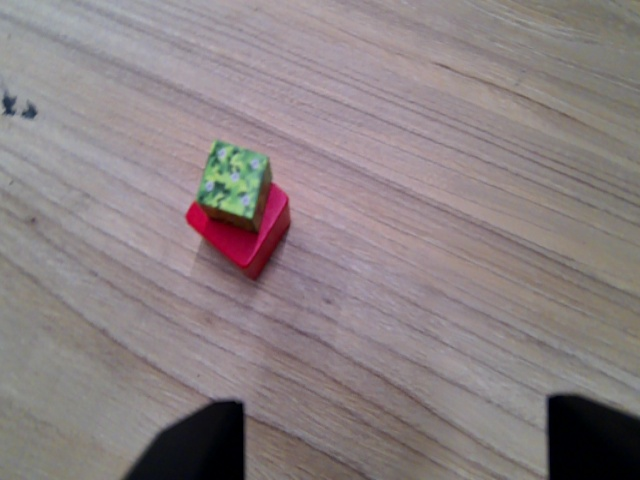grass: (198, 135, 271, 235)
